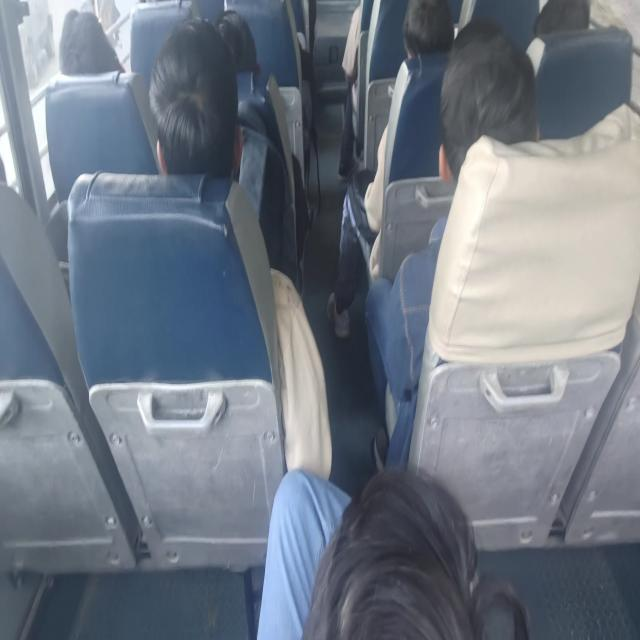person: (313, 481, 499, 640), (440, 23, 535, 197), (151, 29, 247, 181), (54, 0, 122, 77), (204, 2, 264, 82), (400, 0, 455, 68), (539, 0, 589, 61)
